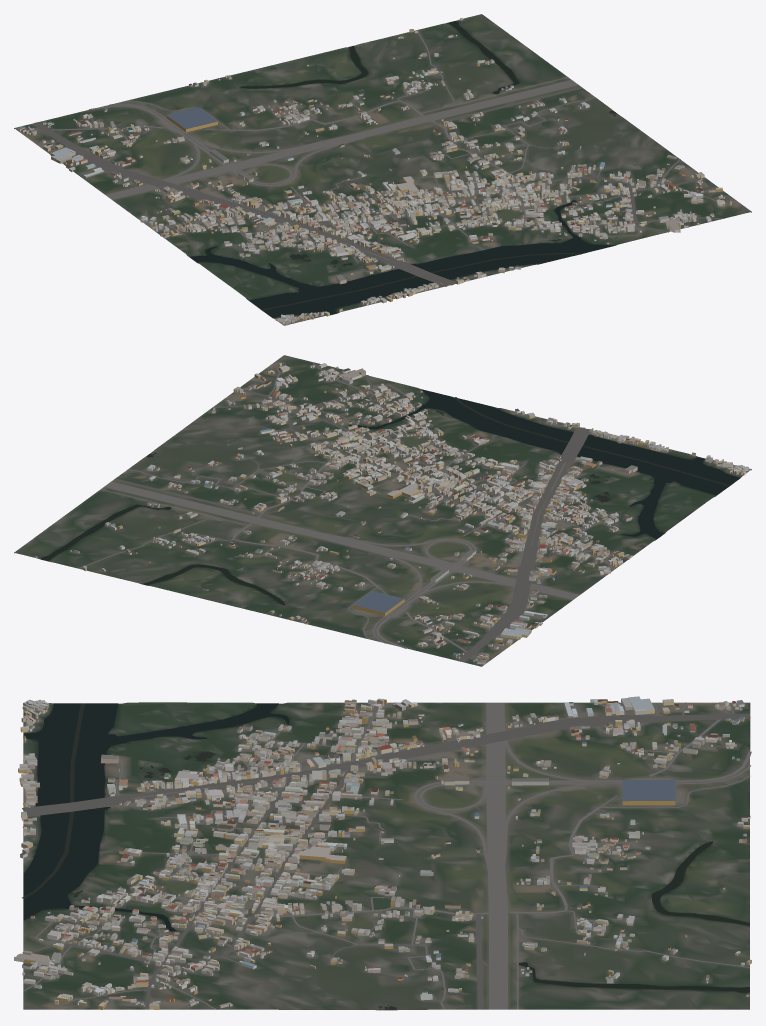
3 renders of one model, top to bottom at view 1: azimuth 30°, elevation 25°; view 2: azimuth 150°, elevation 25°; view 3: azimuth 270°, elevation 25°, orthographic. The views are drawn at different scales.
Visible parts, largest first — view 1: ground, buildings, roads, water; view 2: ground, buildings, roads, water; view 3: ground, buildings, roads, water.
Part boxes in pixels (bbox=[...]): ground: bbox=[14, 14, 751, 325]; buildings: bbox=[17, 18, 731, 325]; roads: bbox=[22, 30, 729, 325]; water: bbox=[189, 21, 618, 317]; ground: bbox=[14, 355, 751, 666]; buildings: bbox=[34, 363, 750, 664]; roads: bbox=[78, 362, 751, 662]; water: bbox=[41, 389, 739, 605]; ground: bbox=[23, 702, 750, 1010]; buildings: bbox=[14, 696, 751, 1009]; roads: bbox=[22, 702, 751, 1009]; water: bbox=[22, 703, 749, 1009].
Bounding box in the file's own units: 1414 × 22.46 × 1422.
